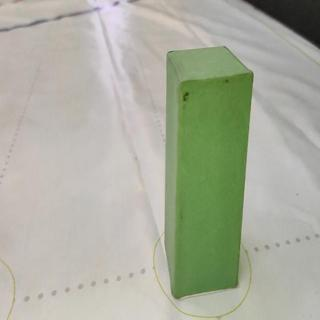greenbox: (167, 45, 253, 299)
